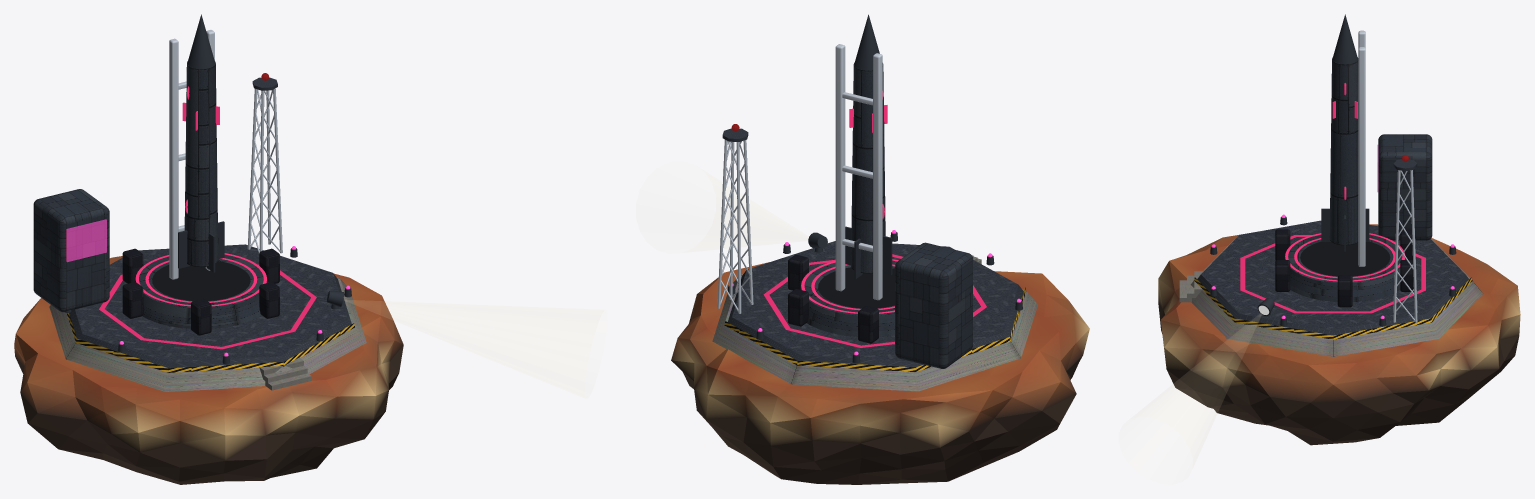
Rendered from hypersonic-L1.glb.
3 renders of one model, left to right at view 1: azimuth 30°, elevation 25°; view 2: azimuth 150°, elevation 25°; view 3: azimuth 270°, elevation 25°, orthographic. The views are drawn at different scales.
Parts seen in each view (by area): view 1: object 1, object 4, object 37, anim:missile, object 2, object 25, object 26, anim:erector, object 3, object 38, object 5, object 32 (+2 smaller); view 2: object 1, object 4, object 37, object 2, anim:missile, anim:erector, object 25, object 26, object 3, object 5, object 33, object 34 (+1 smaller); view 3: object 1, object 4, anim:missile, object 2, object 37, object 25, object 26, anim:erector, object 3, object 5, object 29, object 30 (+2 smaller).
Boxes of the visible parts, bbox=[...] form: object 1: bbox=[14, 256, 403, 484]; object 4: bbox=[69, 244, 351, 368]; object 37: bbox=[33, 189, 109, 312]; anim:missile: bbox=[178, 14, 224, 272]; object 2: bbox=[49, 277, 366, 391]; object 25: bbox=[134, 255, 268, 328]; object 26: bbox=[152, 261, 250, 300]; anim:erector: bbox=[169, 30, 214, 279]; object 3: bbox=[66, 313, 354, 372]; object 38: bbox=[66, 219, 106, 261]; object 5: bbox=[99, 264, 316, 349]; object 32: bbox=[122, 282, 143, 318]; object 1: bbox=[671, 262, 1089, 484]; object 4: bbox=[728, 241, 1023, 367]; object 37: bbox=[895, 242, 972, 368]; object 2: bbox=[712, 274, 1037, 391]; anim:missile: bbox=[845, 14, 892, 279]; anim:erector: bbox=[835, 44, 882, 300]; object 25: bbox=[799, 261, 896, 336]; object 26: bbox=[818, 267, 894, 308]; object 3: bbox=[724, 287, 1026, 371]; object 5: bbox=[763, 254, 986, 347]; object 33: bbox=[858, 306, 878, 343]; object 34: bbox=[788, 289, 808, 326]; object 1: bbox=[1158, 224, 1520, 445]; object 4: bbox=[1197, 220, 1468, 335]; anim:missile: bbox=[1321, 14, 1369, 251]; object 2: bbox=[1190, 239, 1483, 356]; object 37: bbox=[1378, 134, 1432, 240]; object 25: bbox=[1284, 235, 1406, 301]; object 26: bbox=[1300, 241, 1390, 276]; anim:erector: bbox=[1358, 30, 1365, 266]; object 3: bbox=[1194, 277, 1472, 339]; object 5: bbox=[1240, 235, 1425, 313]; object 29: bbox=[1337, 275, 1352, 307]; object 30: bbox=[1275, 260, 1290, 291].
Size of the model in its own units: 8.69 by 6.95 by 6.68.
16 materials, 5 textured.
